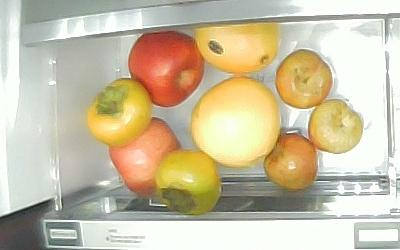apple: (128, 30, 204, 108), (108, 117, 182, 197)
grapefruit: (190, 75, 281, 167), (194, 21, 278, 73)
persimmon: (85, 77, 152, 146), (154, 148, 219, 215)
prune: (275, 48, 333, 109), (307, 98, 363, 154), (263, 133, 317, 190)
